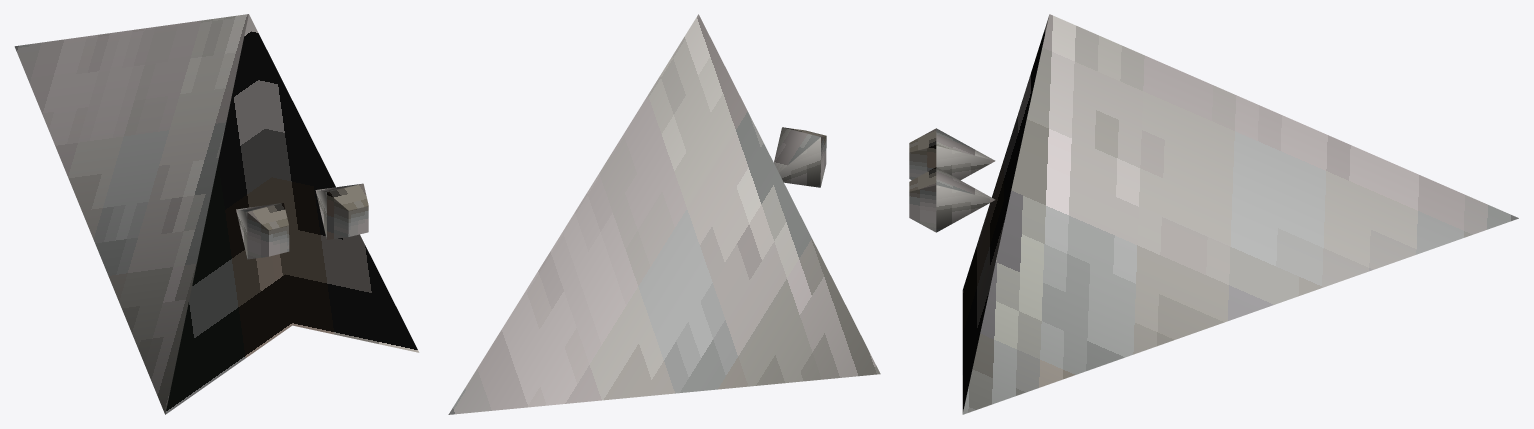
File: hutt_fighter_heavy_weapon3_s03_l3.fbx
3 views of the same model, side by side, from view 1: azimuth 30°, elevation 25°; view 2: azimuth 150°, elevation 25°; view 3: azimuth 270°, elevation 25° (orthographic). The views are drawn at different scales.
Parts seen in each view (by area): view 1: mesh_node; view 2: mesh_node; view 3: mesh_node.
Part boxes in pixels (left/top/right/bottom): mesh_node: left=14, top=14, right=419, bottom=414; mesh_node: left=448, top=14, right=880, bottom=414; mesh_node: left=909, top=14, right=1518, bottom=414.
Size of the model in its own units: 1 by 1.27 by 2.08.
Materials: 1 (1 with a texture image).
